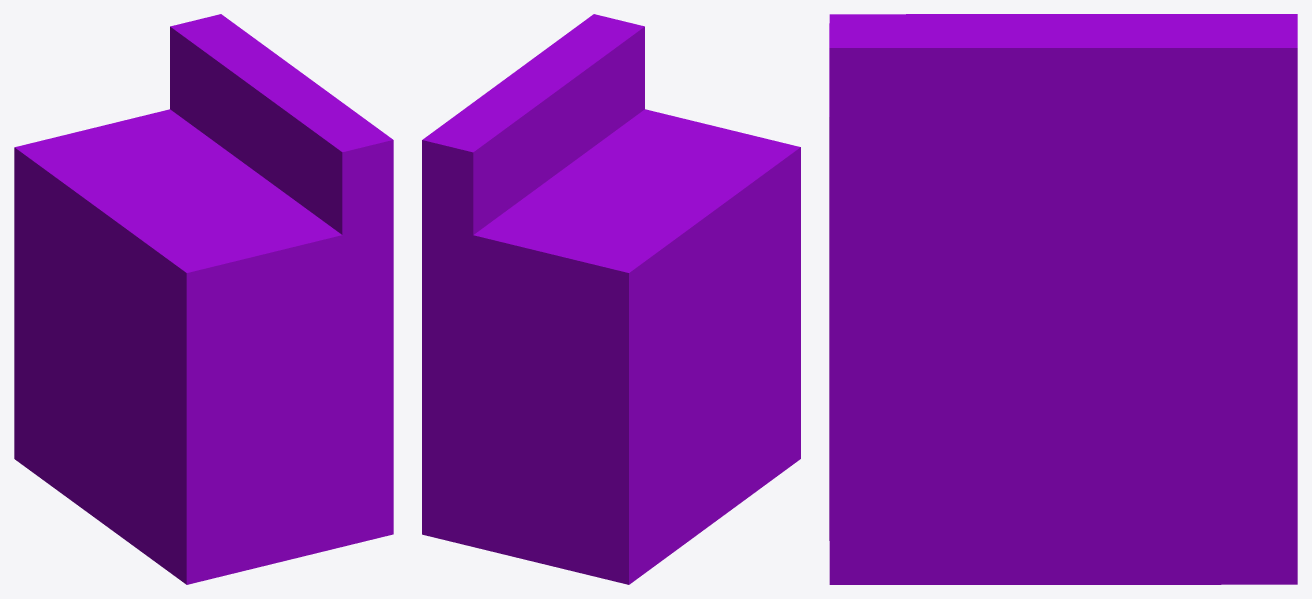
File: Ruina3.fbx
3 renders of one model, left to right at view 1: azimuth 30°, elevation 25°; view 2: azimuth 150°, elevation 25°; view 3: azimuth 270°, elevation 25°, orthographic. The views are drawn at different scales.
Parts seen in each view (by area): view 1: Ruina3; view 2: Ruina3; view 3: Ruina3.
Part boxes in pixels (x1,y1,x2,y2): Ruina3: (14, 14, 393, 584); Ruina3: (422, 14, 800, 584); Ruina3: (829, 14, 1297, 584).
Size of the model in its own units: 517 by 941 by 744.
